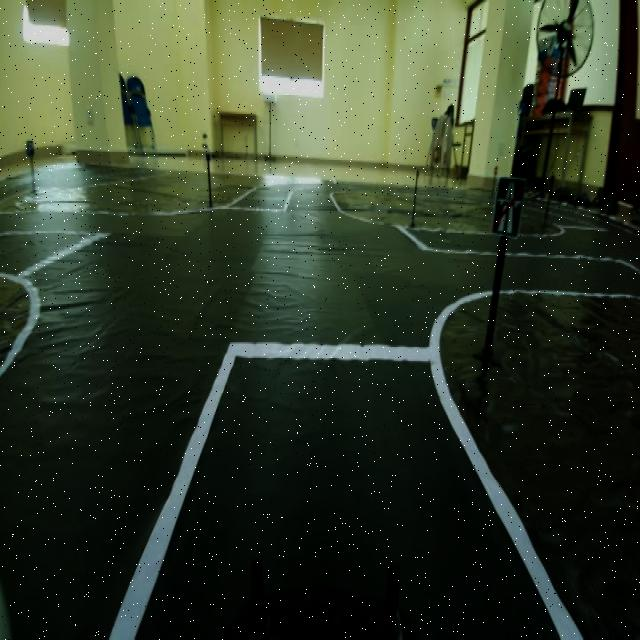highway_exit: (491, 164, 527, 251)
